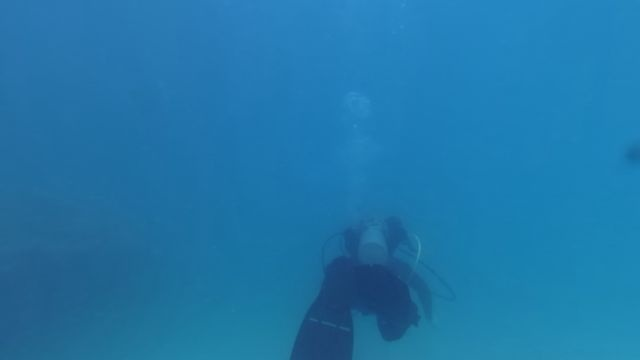Diver: (269, 169, 458, 358)
